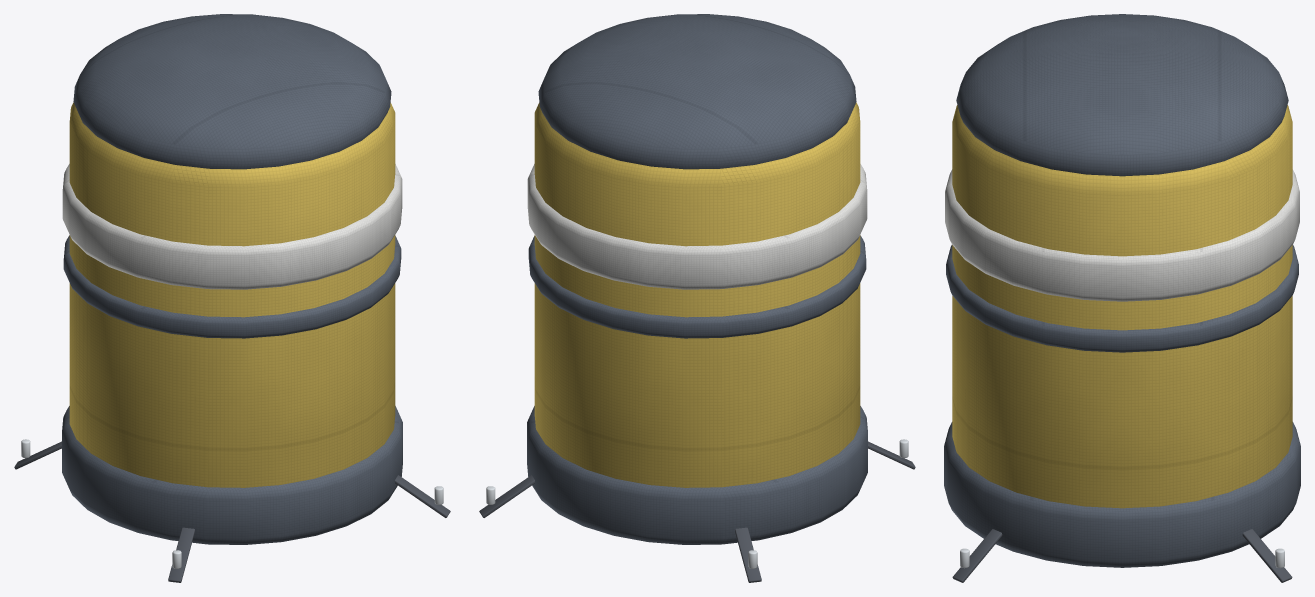
The model's file is bunker_cylinder_gold.glb.
3 views of the same model, side by side, from view 1: azimuth 30°, elevation 25°; view 2: azimuth 150°, elevation 25°; view 3: azimuth 270°, elevation 25° (orthographic). The views are drawn at different scales.
Visible parts, largest first — view 1: CylBody, CylTopDome, CylBaseRing, CylBandUpper, CylBandLower, Strap_2, Strap_3; view 2: CylBody, CylTopDome, CylBaseRing, CylBandUpper, CylBandLower, Strap_1, Strap_0; view 3: CylBody, CylTopDome, CylBaseRing, CylBandUpper, CylBandLower, Strap_0, Strap_3.
Part boxes in pixels (x1=…): CylBody: x1=69, y1=102, x2=395, y2=487; CylTopDome: x1=73, y1=14, x2=391, y2=169; CylBaseRing: x1=62, y1=406, x2=402, y2=544; CylBandUpper: x1=62, y1=164, x2=402, y2=289; CylBandLower: x1=63, y1=235, x2=401, y2=338; Strap_2: x1=168, y1=527, x2=194, y2=582; Strap_3: x1=395, y1=475, x2=450, y2=517; CylBody: x1=534, y1=102, x2=860, y2=487; CylTopDome: x1=538, y1=14, x2=856, y2=169; CylBaseRing: x1=527, y1=406, x2=867, y2=544; CylBandUpper: x1=527, y1=164, x2=867, y2=289; CylBandLower: x1=528, y1=235, x2=866, y2=338; Strap_1: x1=735, y1=527, x2=761, y2=582; Strap_0: x1=479, y1=475, x2=534, y2=517; CylBody: x1=952, y1=105, x2=1292, y2=508; CylTopDome: x1=956, y1=14, x2=1288, y2=176; CylBaseRing: x1=944, y1=422, x2=1300, y2=567; CylBandUpper: x1=945, y1=169, x2=1299, y2=301; CylBandLower: x1=946, y1=245, x2=1298, y2=352; Strap_0: x1=1242, y1=529, x2=1292, y2=582; Strap_3: x1=952, y1=529, x2=1002, y2=582.
Size of the model in its own units: 1.76 by 2.52 by 1.76.
Materials: 5 (3 with a texture image).
